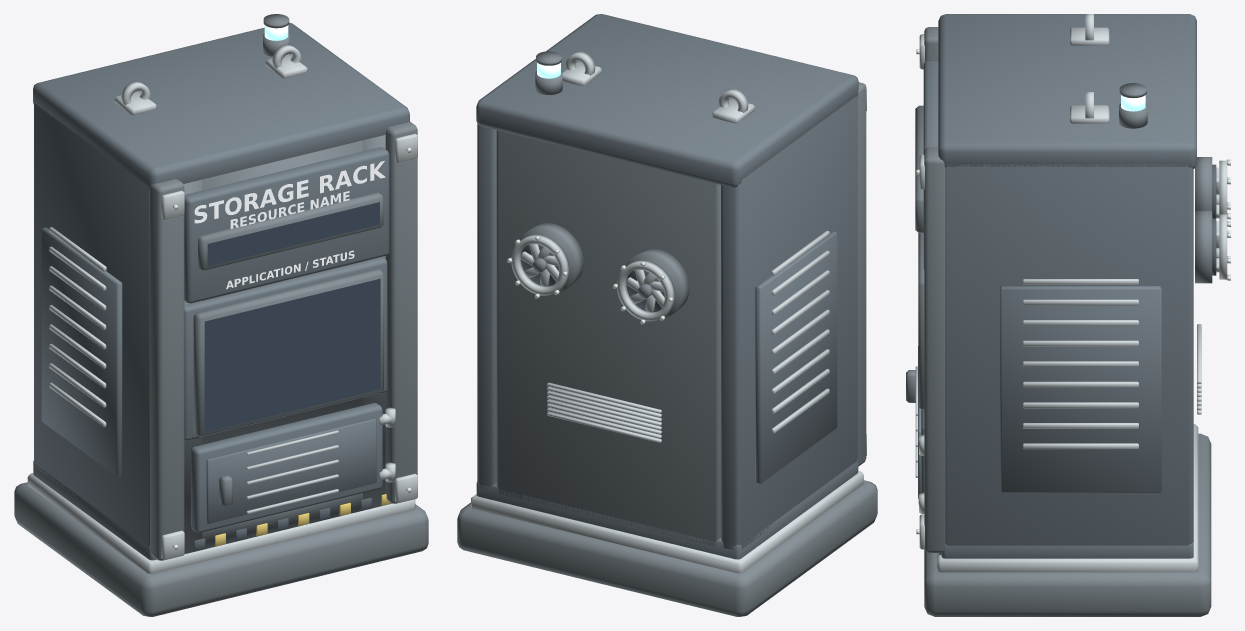
Rendered from storage_rack_ultra.glb.
3 renders of one model, left to right at view 1: azimuth 30°, elevation 25°; view 2: azimuth 150°, elevation 25°; view 3: azimuth 270°, elevation 25°, orthographic. The views are drawn at different scales.
Parts seen in each view (by area): view 1: Roof_graphite, SideWall_graphite, CornerPost_frame, LiveViewSurface_glass, Skid_frame, FrontHeader_graphite, SideServicePanel_graphite, DoorMoving_Inset_graphite, DoorMoving_Panel_graphite, SkidDeck_steel, LiveViewSurfaceFrame_frame, ScreenSupport_graphite (+16 smaller); view 2: BackWall_frame, SideWall_graphite, Roof_graphite, Skid_frame, SideServicePanel_graphite, SkidDeck_steel, KickPlate_graphite, RearFan_steel, RearVent_steel, CornerPost_frame, SideLouver_steel, RearFan_frame (+3 smaller); view 3: SideWall_graphite, Roof_graphite, SideServicePanel_graphite, Skid_frame, CornerPost_frame, SideLouver_steel, SkidDeck_steel, KickPlate_graphite, RearFan_frame, FrontHeader_graphite, RearFan_steel, LiftMount_steel (+7 smaller).
Boxes of the visible parts, x1=… form: Roof_graphite: x1=33, y1=23, x2=409, y2=189; SideWall_graphite: x1=34, y1=103, x2=149, y2=546; CornerPost_frame: x1=150, y1=121, x2=417, y2=560; LiveViewSurface_glass: x1=204, y1=278, x2=380, y2=432; Skid_frame: x1=14, y1=482, x2=428, y2=616; FrontHeader_graphite: x1=184, y1=147, x2=389, y2=303; SideServicePanel_graphite: x1=41, y1=227, x2=122, y2=476; DoorMoving_Inset_graphite: x1=206, y1=418, x2=376, y2=523; DoorMoving_Panel_graphite: x1=191, y1=403, x2=382, y2=532; SkidDeck_steel: x1=27, y1=473, x2=415, y2=573; LiveViewSurfaceFrame_frame: x1=193, y1=268, x2=383, y2=436; ScreenSupport_graphite: x1=184, y1=257, x2=387, y2=440; BackWall_frame: x1=496, y1=130, x2=720, y2=546; SideWall_graphite: x1=477, y1=96, x2=857, y2=550; Roof_graphite: x1=476, y1=14, x2=858, y2=187; Skid_frame: x1=457, y1=480, x2=877, y2=616; SideServicePanel_graphite: x1=755, y1=231, x2=837, y2=483; SkidDeck_steel: x1=471, y1=471, x2=863, y2=573; KickPlate_graphite: x1=476, y1=459, x2=858, y2=559; RearFan_steel: x1=511, y1=235, x2=674, y2=321; RearVent_steel: x1=547, y1=382, x2=661, y2=442; CornerPost_frame: x1=857, y1=82, x2=866, y2=466; SideLouver_steel: x1=771, y1=231, x2=829, y2=433; RearFan_frame: x1=519, y1=223, x2=689, y2=319; SideWall_graphite: x1=945, y1=164, x2=1193, y2=545; Roof_graphite: x1=938, y1=14, x2=1196, y2=168; SideServicePanel_graphite: x1=1000, y1=286, x2=1161, y2=492; Skid_frame: x1=924, y1=433, x2=1211, y2=616; CornerPost_frame: x1=924, y1=27, x2=945, y2=552; SideLouver_steel: x1=1023, y1=279, x2=1138, y2=449; SkidDeck_steel: x1=937, y1=424, x2=1198, y2=572; KickPlate_graphite: x1=941, y1=542, x2=1193, y2=558; RearFan_frame: x1=1195, y1=157, x2=1212, y2=283; FrontHeader_graphite: x1=923, y1=60, x2=938, y2=269; RearFan_steel: x1=1216, y1=160, x2=1227, y2=279; LiftMount_steel: x1=1070, y1=27, x2=1109, y2=123.
Bounding box in the file's own units: 1.6 × 2.53 × 1.48.
